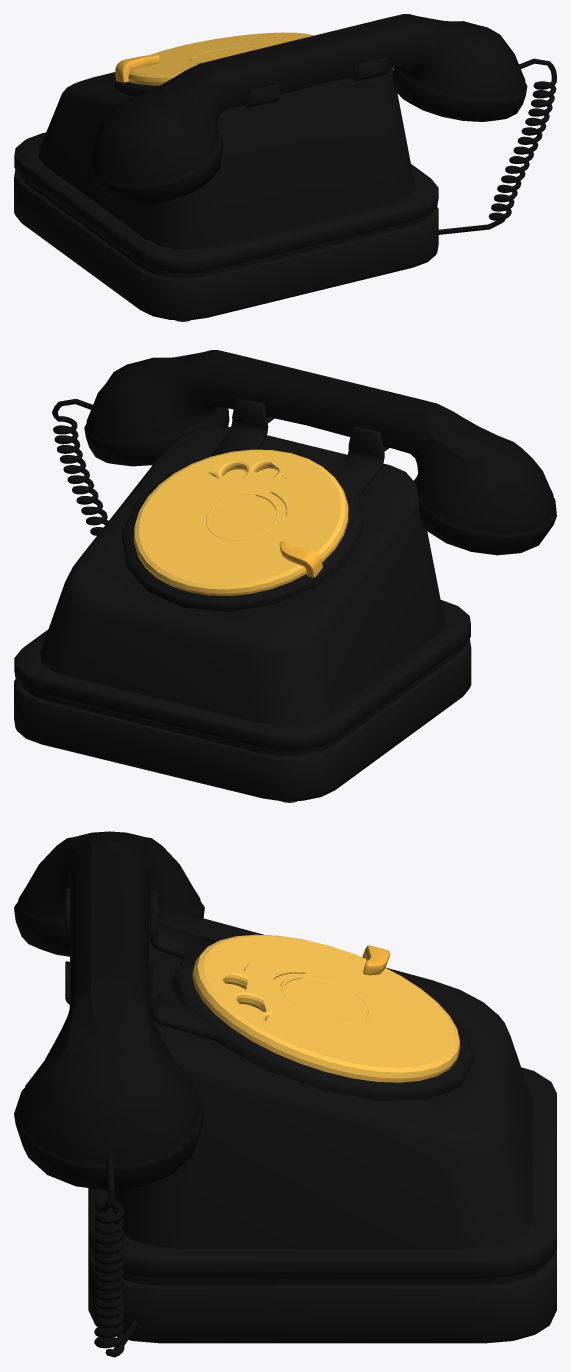
The model's file is PRINCIPALOFFICEtelephone.fbx.
3 views of the same model, one above another, from view 1: azimuth 30°, elevation 25°; view 2: azimuth 150°, elevation 25°; view 3: azimuth 270°, elevation 25° (orthographic). The views are drawn at different scales.
Parts seen in each view (by area): view 1: PRINCIPALOFFICEtelephone; view 2: PRINCIPALOFFICEtelephone; view 3: PRINCIPALOFFICEtelephone.
Part boxes in pixels (x1=…): PRINCIPALOFFICEtelephone: x1=14, y1=14, x2=556, y2=321; PRINCIPALOFFICEtelephone: x1=14, y1=350, x2=556, y2=802; PRINCIPALOFFICEtelephone: x1=14, y1=831, x2=556, y2=1357.
Size of the model in its own units: 60.28 by 31.8 by 44.56.
Materials: 2 (2 with a texture image).
